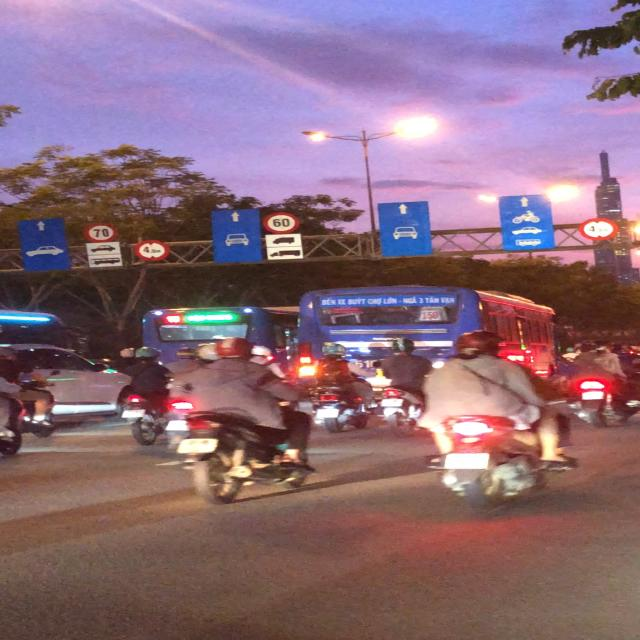Bien bao han che chieu cao: (576, 214, 618, 242), (132, 237, 170, 265)
Bien bao toc do toi da cho phep: (258, 210, 308, 234), (78, 221, 122, 243)
